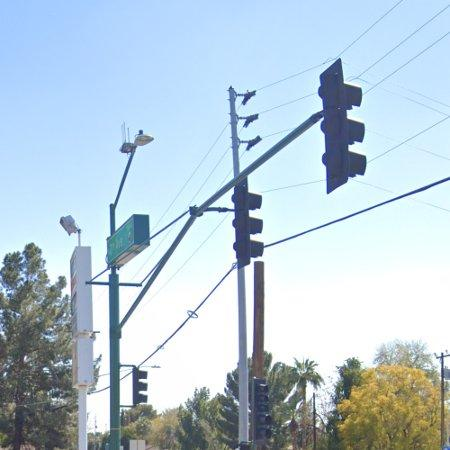traffic lights: (319, 59, 367, 194)
